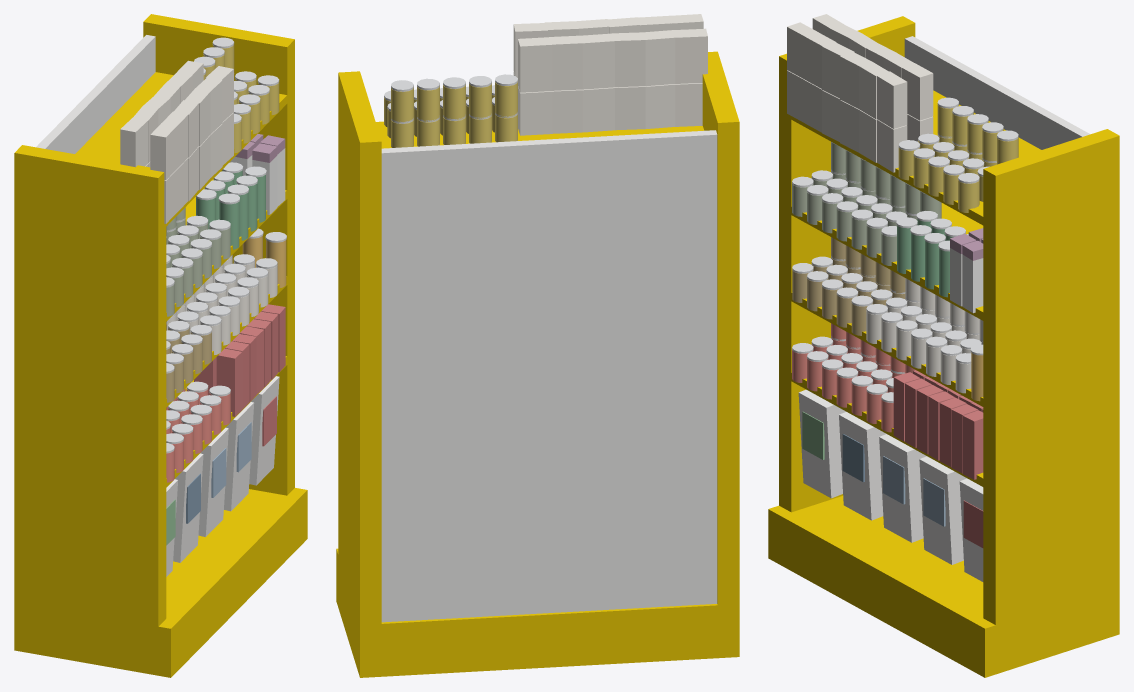
Rendered from minimarket_rack_singleside_stocked_yellow.glb.
3 views of the same model, side by side, from view 1: azimuth 30°, elevation 25°; view 2: azimuth 150°, elevation 25°; view 3: azimuth 270°, elevation 25° (orthographic). The views are drawn at different scales.
Visible parts, largest first — view 1: upright_L, Goods, plinth, upright_R, back_panel, shelf_3, flour_sack_4, flour_sack_3, flour_sack_2, flour_sack_1, shelf_2, flour_sack_0 (+1 smaller); view 2: back_panel, Goods, upright_R, plinth, upright_L, shelf_3; view 3: Goods, upright_R, plinth, upright_L, back_panel, flour_sack_3, flour_sack_0, flour_sack_1, flour_sack_2, shelf_2, shelf_3, flour_sack_4 (+2 smaller).
Boxes of the visible parts, x1,y1,x2,y2 form: upright_L: (14, 145, 166, 675); Goods: (120, 37, 286, 545); plinth: (64, 488, 307, 677); upright_R: (143, 14, 294, 495); back_panel: (36, 35, 155, 153); shelf_3: (75, 72, 287, 226); flour_sack_4: (249, 376, 279, 485); flour_sack_3: (224, 402, 254, 511); flour_sack_2: (198, 427, 228, 536); flour_sack_1: (173, 453, 203, 562); shelf_2: (165, 179, 287, 321); flour_sack_0: (166, 479, 177, 576); back_panel: (381, 130, 717, 622); Goods: (384, 14, 707, 147); upright_R: (338, 71, 381, 677); plinth: (336, 548, 739, 677); upright_L: (702, 51, 739, 657); shelf_3: (375, 121, 703, 148); Goods: (787, 14, 1018, 547); upright_R: (983, 129, 1119, 674); plinth: (768, 496, 1119, 677); upright_L: (779, 16, 915, 512); back_panel: (904, 36, 1089, 149); flour_sack_3: (919, 456, 966, 564); flour_sack_0: (798, 389, 845, 498); flour_sack_1: (839, 412, 886, 520); flour_sack_2: (879, 434, 926, 542); shelf_2: (791, 203, 985, 321); shelf_3: (791, 90, 1041, 226); flour_sack_4: (959, 478, 983, 581).
Bounding box in the file's own units: 1.14 × 1.73 × 1.04.
